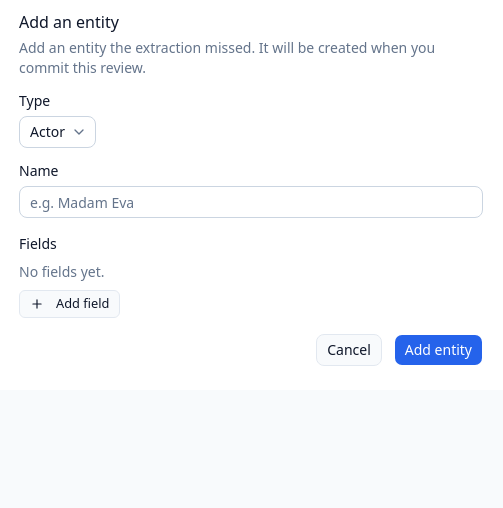
Test: AddEntityForm › blocks submission and shows a banner on duplicate field keys
Type "Madam Eva" into the field labelled "Name".
click(251, 202); type("Madam Eva")  # box [19,186,483,218]
Click the button "Add field".
click(70, 304)  # box [19,290,120,318]
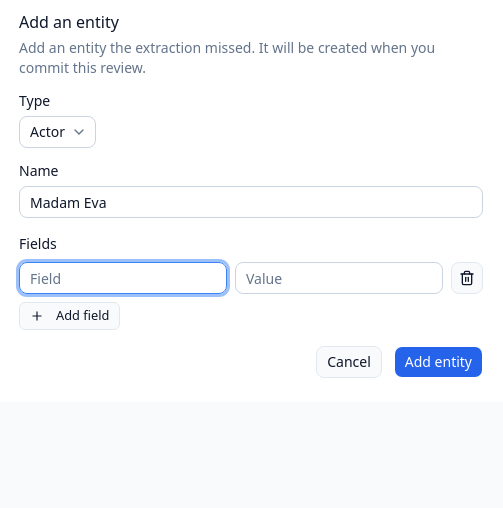
Type "role" into the field named "Field 1 name".
click(123, 278); type("role")  # box [19,262,227,294]
Type "seer" into the field named "Field 1 value".
click(339, 278); type("seer")  # box [235,262,443,294]
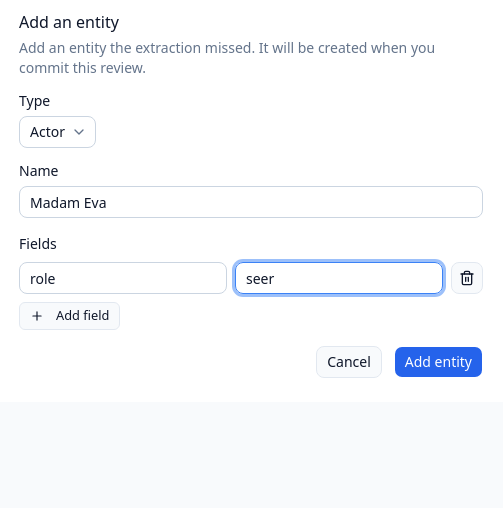
Click the button "Add field".
click(70, 316)  # box [19,302,120,330]
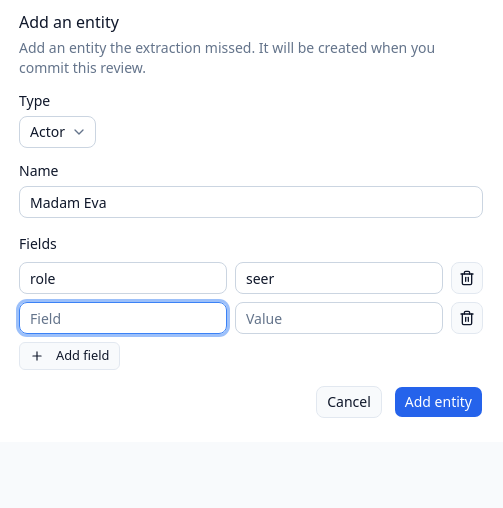
Type "role" into the field named "Field 2 name".
click(123, 318); type("role")  # box [19,302,227,334]
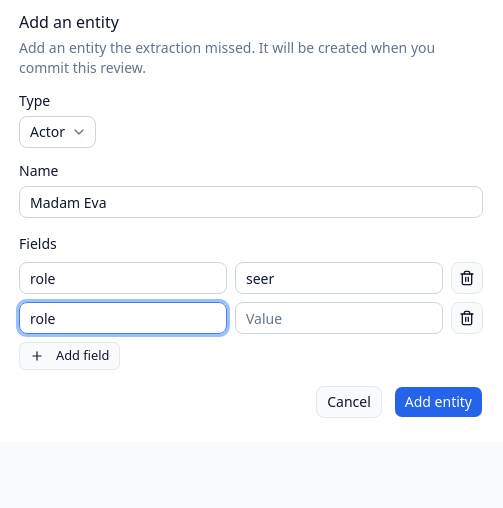
Type "fortune teller" into the field named "Field 2 value".
click(339, 318); type("fortune teller")  # box [235,302,443,334]
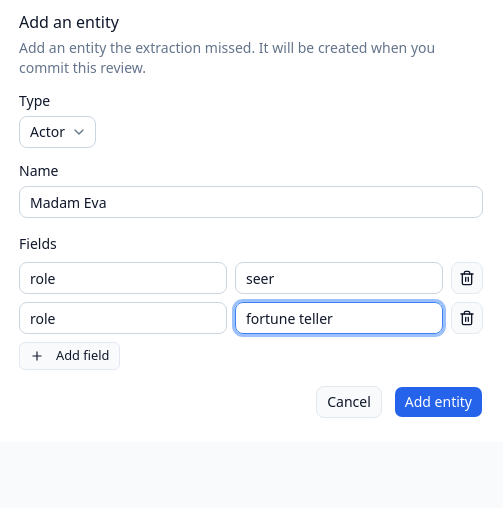
Click the button "Add entity".
click(438, 402)  # box [394,386,483,418]
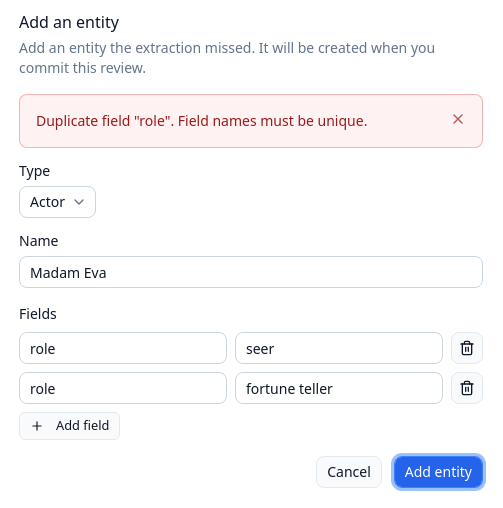
Now the message shows "Duplicate field \"role\"", box [36,111,367,130]
